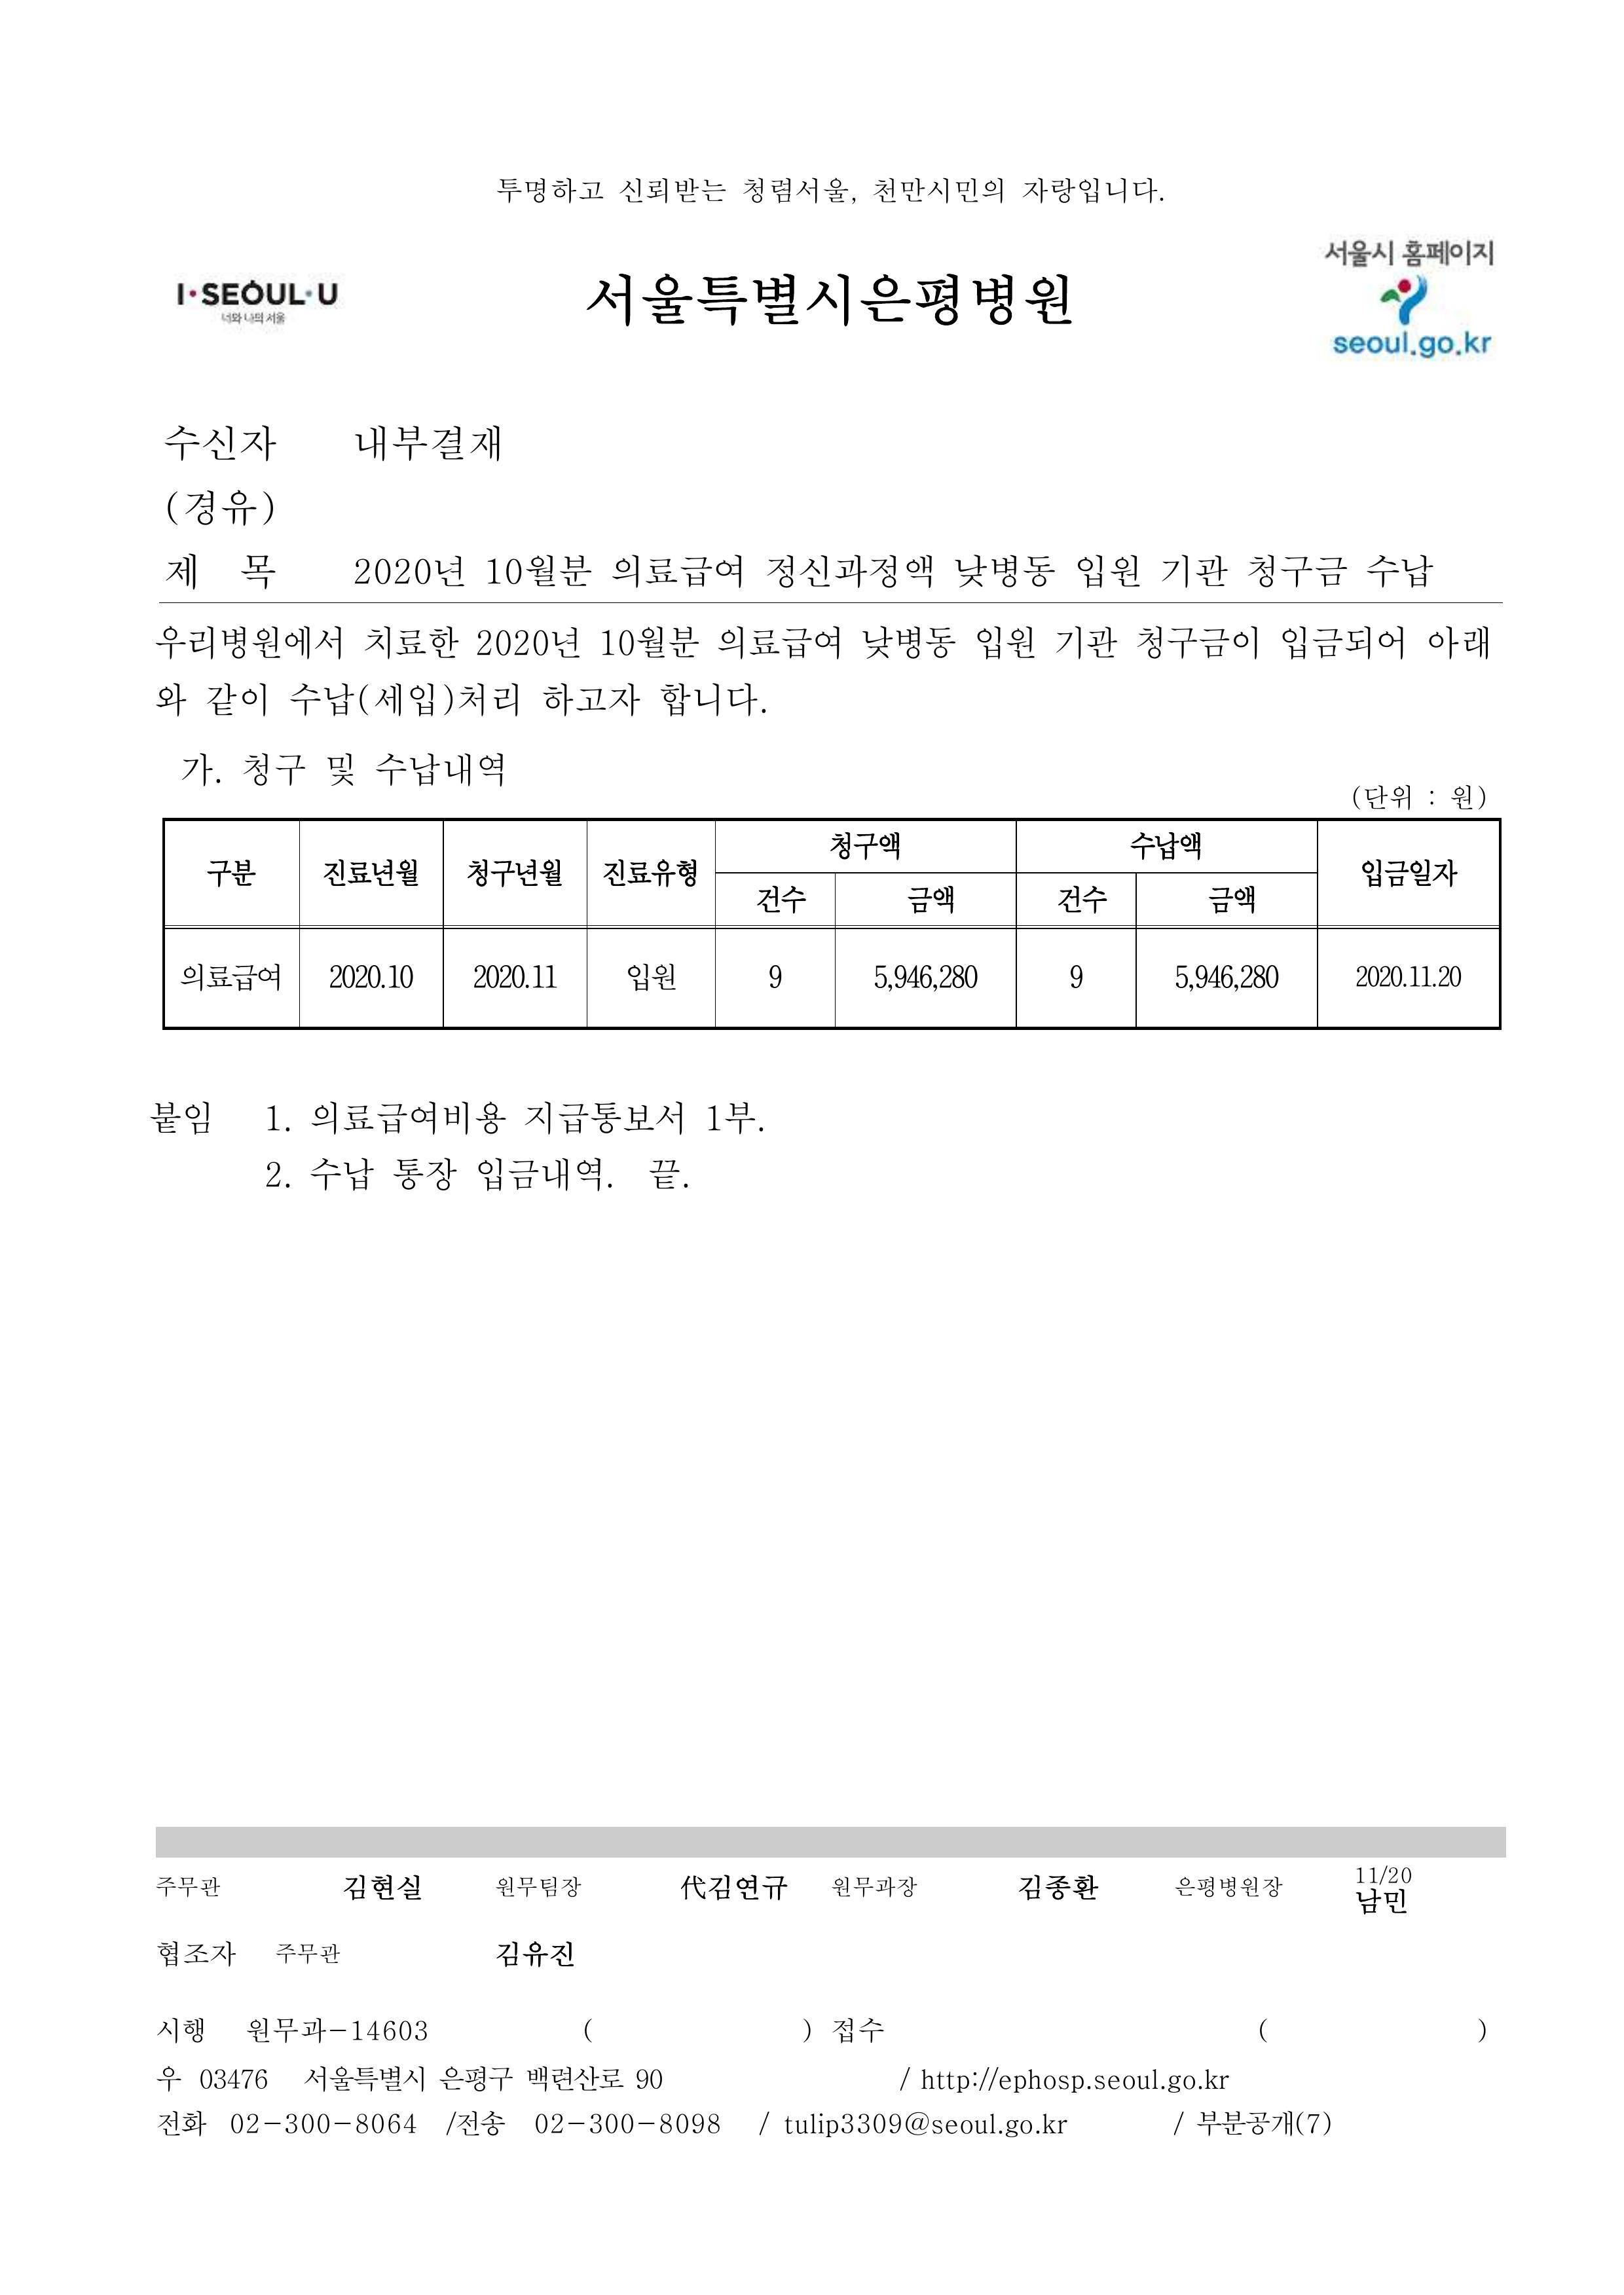t: (581, 265, 1075, 337), (287, 678, 523, 724), (308, 1097, 509, 1137), (158, 619, 344, 661), (1240, 552, 1434, 591), (351, 423, 506, 469), (764, 552, 936, 591), (520, 1097, 688, 1137), (781, 2112, 1007, 2140), (244, 2015, 430, 2047), (1134, 619, 1263, 665), (308, 1154, 459, 1194), (373, 749, 509, 792), (240, 749, 365, 796), (1276, 623, 1409, 667), (161, 487, 280, 534), (473, 1154, 613, 1194), (172, 276, 341, 308), (1018, 172, 1162, 208), (713, 623, 842, 663), (164, 423, 283, 466), (868, 172, 1007, 208), (610, 552, 746, 588), (154, 678, 268, 720), (1194, 2102, 1335, 2137), (860, 620, 957, 667), (351, 552, 466, 591), (656, 681, 767, 720), (484, 552, 591, 591), (950, 552, 1058, 591), (595, 620, 703, 659), (921, 2068, 1086, 2094), (301, 2062, 430, 2094), (613, 172, 728, 208), (739, 172, 853, 208), (493, 175, 605, 211), (473, 623, 581, 659), (362, 620, 459, 659), (538, 681, 642, 717), (868, 961, 979, 993), (1169, 961, 1280, 993), (678, 1871, 788, 1904), (319, 853, 419, 889), (462, 853, 563, 889), (1359, 856, 1459, 892), (904, 882, 1004, 918), (179, 961, 283, 993), (599, 856, 699, 889), (1090, 2065, 1206, 2093), (1398, 236, 1499, 268), (523, 2062, 623, 2094), (229, 2112, 355, 2137), (1352, 961, 1463, 989), (1172, 1871, 1283, 1900), (1050, 623, 1122, 667), (154, 1936, 236, 1972), (1154, 552, 1230, 591), (972, 623, 1040, 667), (326, 961, 416, 993), (470, 961, 559, 993), (1014, 1871, 1101, 1904), (491, 1936, 577, 1968), (1319, 236, 1395, 272), (1075, 552, 1144, 591), (341, 1871, 423, 1904), (147, 1097, 212, 1137), (437, 2062, 516, 2094), (699, 1097, 760, 1137), (1424, 623, 1492, 659), (828, 828, 904, 860), (1130, 828, 1205, 860), (197, 2062, 272, 2094), (1330, 333, 1420, 358), (1050, 882, 1111, 918), (494, 1875, 581, 1900), (832, 1875, 918, 1900), (822, 2015, 884, 2050), (154, 1871, 222, 1900), (351, 2108, 419, 2137), (656, 2108, 724, 2137), (445, 2108, 506, 2140), (1205, 882, 1259, 918), (151, 2109, 206, 2143), (1352, 1886, 1409, 1918), (753, 882, 810, 914), (179, 753, 229, 788), (623, 961, 678, 993), (276, 1939, 344, 1965), (588, 2112, 656, 2137), (1359, 781, 1416, 810), (208, 856, 258, 889), (645, 1154, 685, 1194), (164, 552, 208, 588), (232, 552, 276, 588), (534, 2112, 588, 2137), (1416, 333, 1463, 362), (157, 2019, 208, 2044), (1352, 1868, 1412, 1886), (261, 1158, 294, 1190), (261, 1101, 294, 1133), (1463, 329, 1495, 355), (635, 2068, 667, 2094), (1201, 2068, 1233, 2094), (1004, 2116, 1036, 2140), (1040, 2116, 1072, 2137), (1449, 785, 1473, 810), (800, 2019, 821, 2044), (161, 2065, 183, 2090), (767, 964, 785, 989), (1069, 964, 1086, 989)
